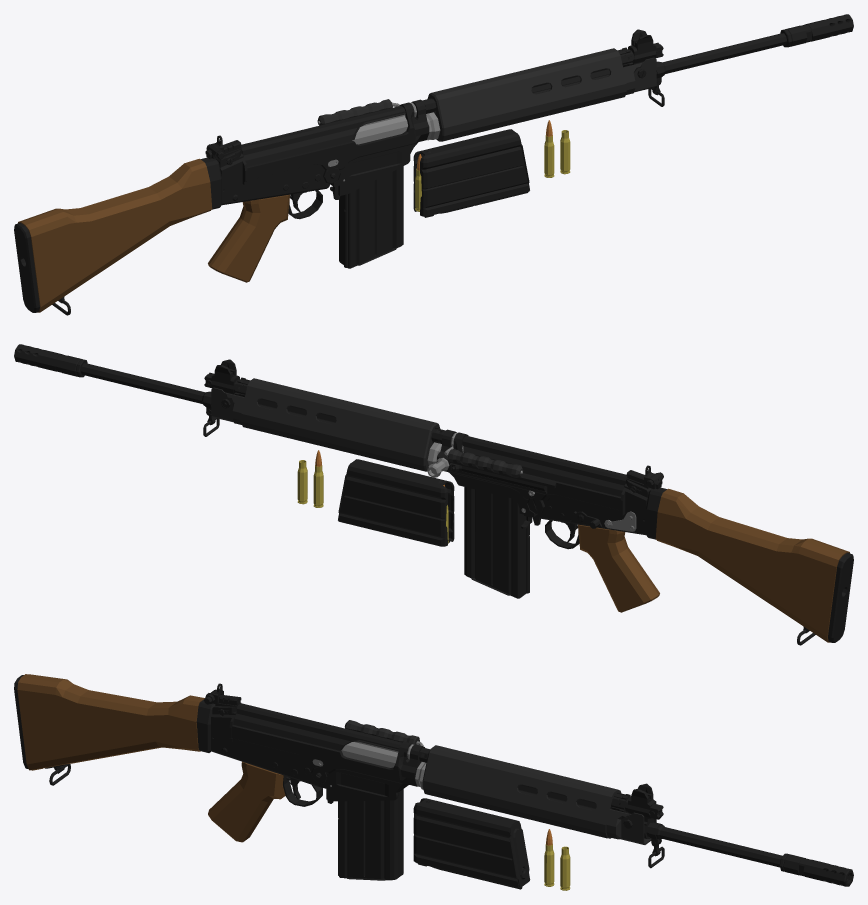
The model's file is low-poly_fn_fal.glb.
The picture shows the model from 3 angles, top to bottom: view 1: azimuth 30°, elevation 25°; view 2: azimuth 150°, elevation 25°; view 3: azimuth 330°, elevation 25°; orthographic projection.
Parts seen in each view (by area): view 1: fal stock_14, fal handguard_9, fal 20rnd mag_3, fal upper receiver_17, fal 20rnd empty mag_2, fal lower receiver_10, fal grip_8, fal barrel_4, fal top cover_15, fal muzzle brake_12, fal bolt_5, fal carry handle_6; view 2: fal stock_14, fal handguard_9, fal 20rnd mag_3, fal 20rnd empty mag_2, fal upper receiver_17, fal grip_8, fal lower receiver_10, fal top cover_15, fal barrel_4, fal muzzle brake_12, fal carry handle_6, fal charging handle_7; view 3: fal stock_14, fal handguard_9, fal 20rnd mag_3, fal upper receiver_17, fal 20rnd empty mag_2, fal barrel_4, fal lower receiver_10, fal grip_8, fal top cover_15, fal muzzle brake_12, fal bolt_5, fal carry handle_6 (+2 smaller).
Boxes of the visible parts, left/top/right/bottom form: fal stock_14: left=14, top=157, right=221, bottom=315; fal handguard_9: left=427, top=48, right=656, bottom=141; fal 20rnd mag_3: left=413, top=129, right=529, bottom=217; fal upper receiver_17: left=246, top=99, right=429, bottom=195; fal 20rnd empty mag_2: left=339, top=166, right=403, bottom=268; fal lower receiver_10: left=205, top=135, right=330, bottom=219; fal grip_8: left=208, top=194, right=289, bottom=282; fal barrel_4: left=422, top=29, right=786, bottom=140; fal top cover_15: left=240, top=106, right=405, bottom=166; fal muzzle brake_12: left=780, top=14, right=853, bottom=47; fal bolt_5: left=352, top=114, right=407, bottom=144; fal carry handle_6: left=317, top=99, right=416, bottom=125; fal stock_14: left=646, top=487, right=853, bottom=645; fal handguard_9: left=211, top=378, right=440, bottom=471; fal 20rnd mag_3: left=338, top=459, right=454, bottom=546; fal 20rnd empty mag_2: left=464, top=487, right=529, bottom=598; fal upper receiver_17: left=437, top=429, right=620, bottom=528; fal grip_8: left=578, top=524, right=659, bottom=612; fal lower receiver_10: left=537, top=465, right=663, bottom=549; fal top cover_15: left=462, top=436, right=627, bottom=496; fal barrel_4: left=81, top=359, right=445, bottom=465; fal muzzle brake_12: left=14, top=344, right=87, bottom=377; fal carry handle_6: left=444, top=432, right=523, bottom=477; fal charging handle_7: left=427, top=457, right=547, bottom=491; fal stock_14: left=14, top=674, right=215, bottom=785; fal handguard_9: left=422, top=745, right=656, bottom=844; fal 20rnd mag_3: left=413, top=798, right=530, bottom=889; fal upper receiver_17: left=232, top=725, right=424, bottom=801; fal 20rnd empty mag_2: left=338, top=789, right=403, bottom=880; fal barrel_4: left=415, top=748, right=782, bottom=868; fal lower receiver_10: left=204, top=683, right=322, bottom=806; fal grip_8: left=208, top=761, right=285, bottom=842; fal top cover_15: left=233, top=703, right=402, bottom=751; fal muzzle brake_12: left=779, top=853, right=853, bottom=886; fal bolt_5: left=341, top=741, right=398, bottom=767; fal carry handle_6: left=344, top=720, right=423, bottom=759.
Size of the model in its own units: 10.93 by 2.02 by 0.6997.
